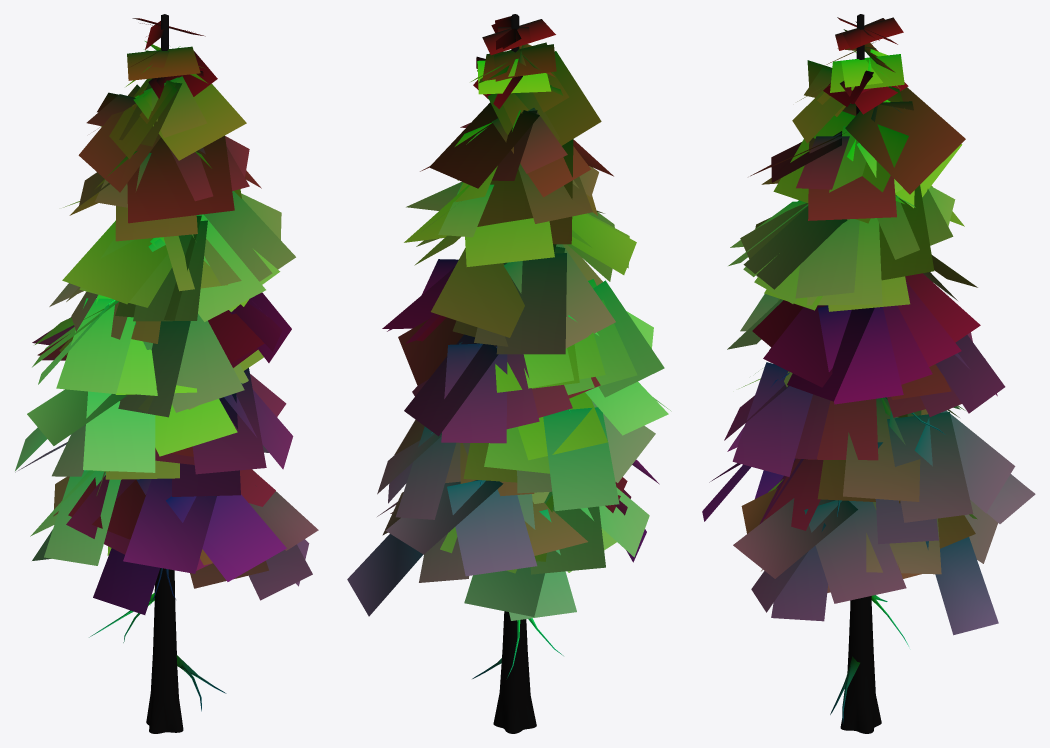
Rendered from M_Pine_4_1.fbx.
The picture shows the model from 3 angles, left to right: view 1: azimuth 30°, elevation 25°; view 2: azimuth 150°, elevation 25°; view 3: azimuth 270°, elevation 25°; orthographic projection.
Parts seen in each view (by area): view 1: Tree_1; view 2: Tree_1; view 3: Tree_1.
Part boxes in pixels (x1,y1,x2,y2): Tree_1: (15, 14, 318, 733); Tree_1: (347, 14, 671, 733); Tree_1: (702, 14, 1035, 733).
Bounding box in the file's own units: 1008 × 2587 × 1100.
